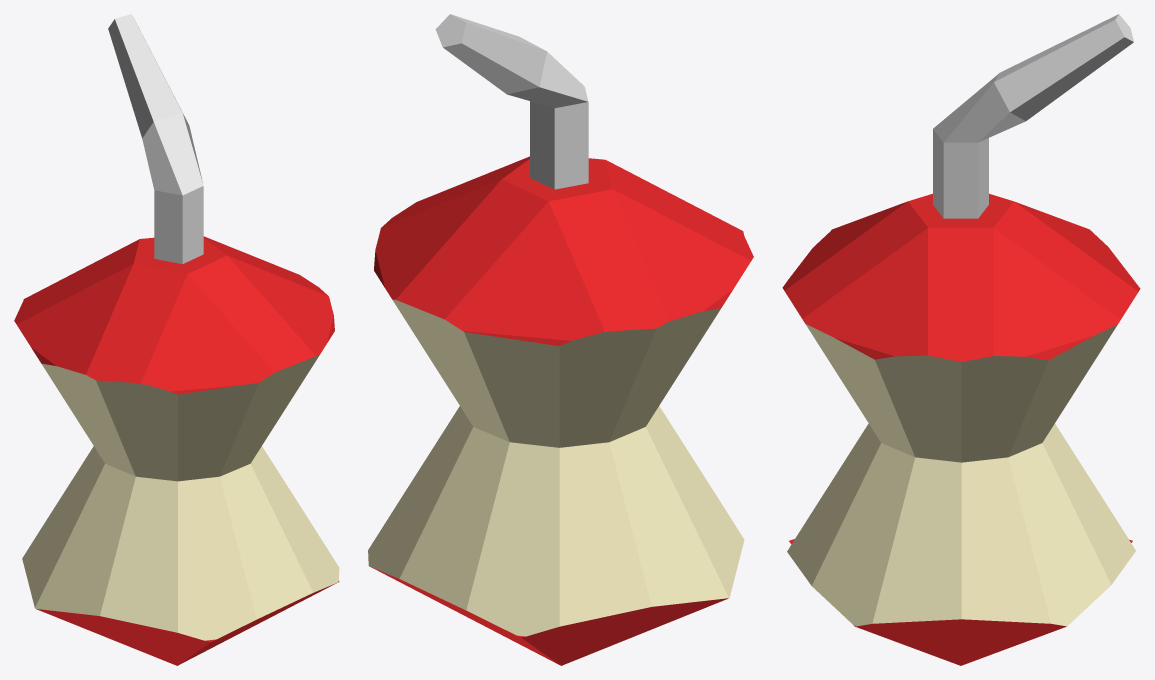
File: food.fbx
3 views of the same model, side by side, from view 1: azimuth 30°, elevation 25°; view 2: azimuth 150°, elevation 25°; view 3: azimuth 270°, elevation 25° (orthographic). The views are drawn at different scales.
Parts seen in each view (by area): view 1: Food; view 2: Food; view 3: Food.
Boxes of the visible parts, <box> form: Food: <box>14,14,339,665</box>; Food: <box>368,14,753,665</box>; Food: <box>782,14,1140,665</box>.
Size of the model in its own units: 133 by 266 by 131.
